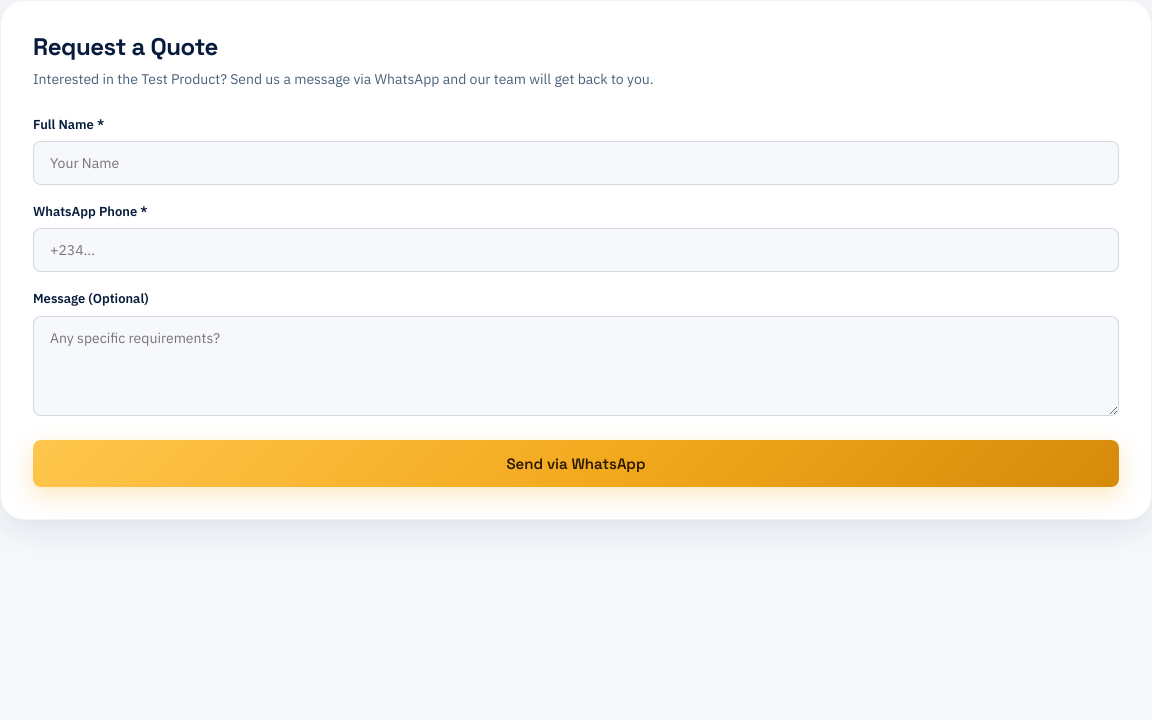
Test case: LeadCaptureForm › shows validation errors when submitting empty form
Click the button "Send via WhatsApp": (576, 463) 33,440 -> 1119,487
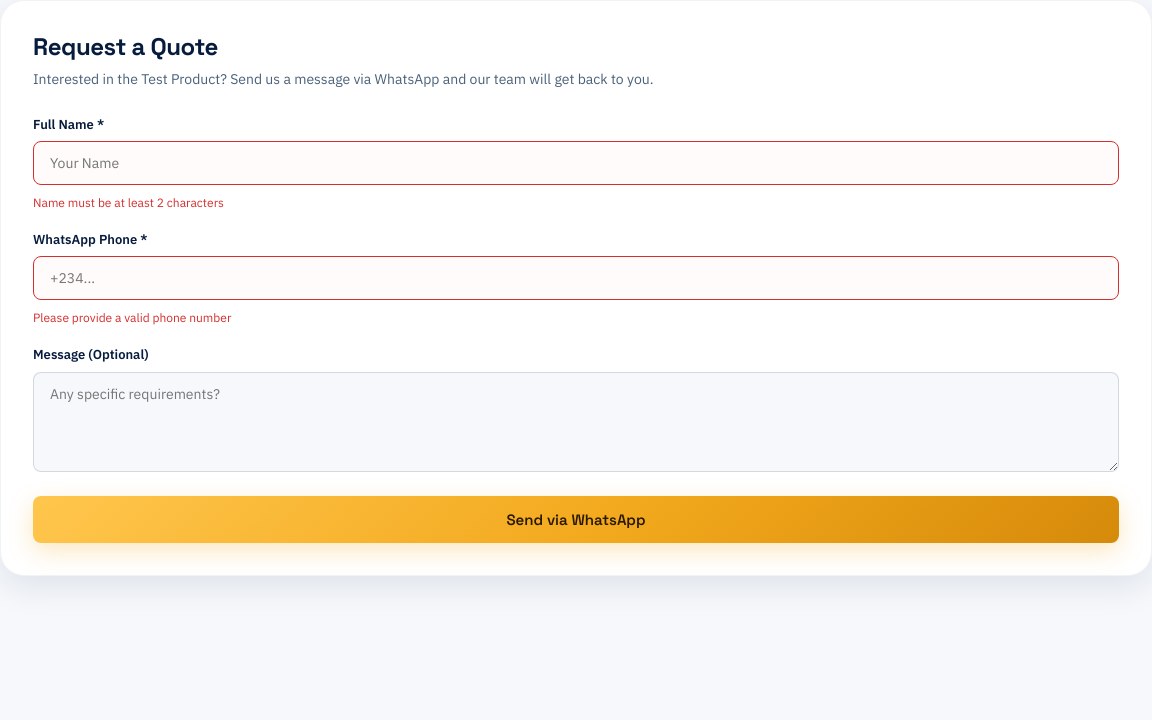
Expected: the text "Name must be at least 2 characters" is shown, 33,195 -> 224,210
Expected: the text "Please provide a valid phone number" is shown, 33,310 -> 231,325
